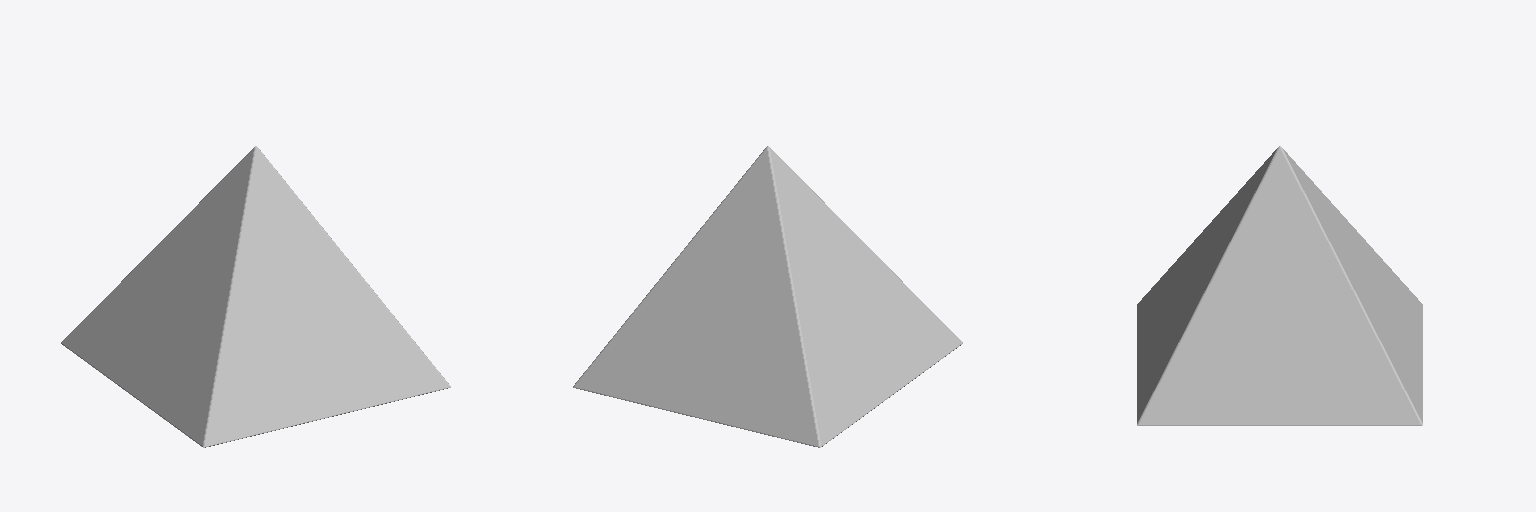
The model's file is obamium.obj.
The picture shows the model from 3 angles: view 1: azimuth 30°, elevation 25°; view 2: azimuth 150°, elevation 25°; view 3: azimuth 270°, elevation 25°; orthographic projection.
Visible parts, largest first — view 1: Cone; view 2: Cone; view 3: Cone.
Boxes of the visible parts, x1=… form: Cone: x1=61, y1=146, x2=450, y2=447; Cone: x1=573, y1=146, x2=962, y2=447; Cone: x1=1137, y1=146, x2=1422, y2=425.
Bounding box in the file's own units: 1.41 × 1.19 × 1.41.